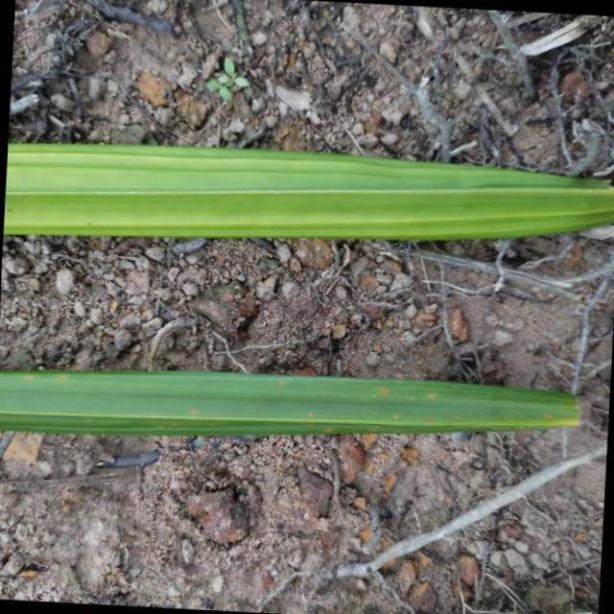nitrogen: (5, 138, 614, 243), (5, 371, 587, 444)
